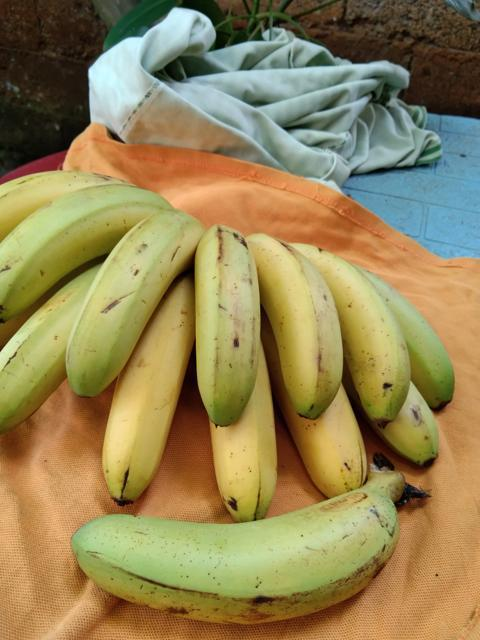ripe: (73, 455, 407, 633), (49, 208, 187, 389), (176, 211, 277, 432), (252, 227, 354, 431)
